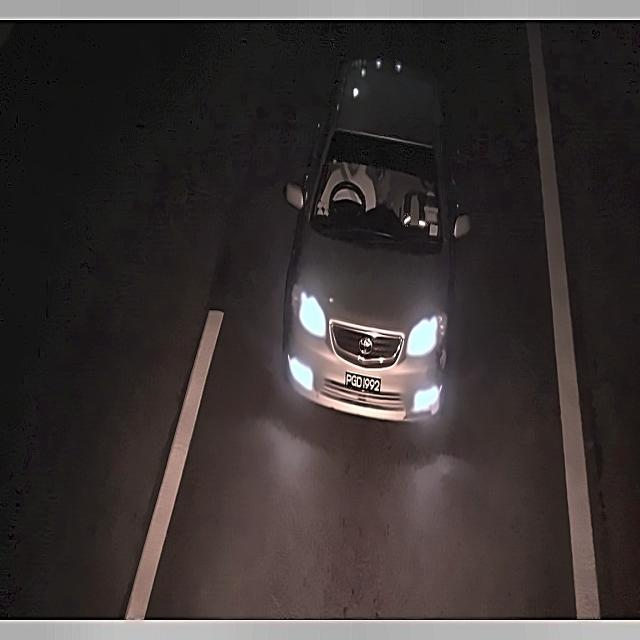car: (341, 368, 388, 400)
